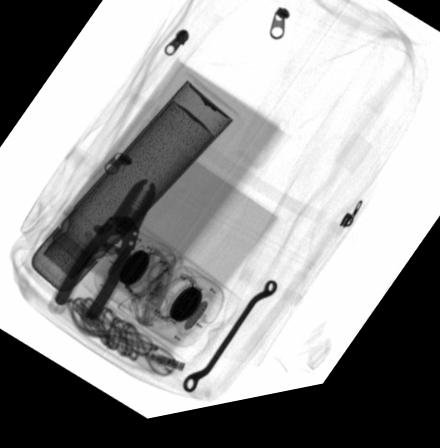Pliers: (46, 182, 160, 336)
Wrench: (182, 290, 279, 401)
